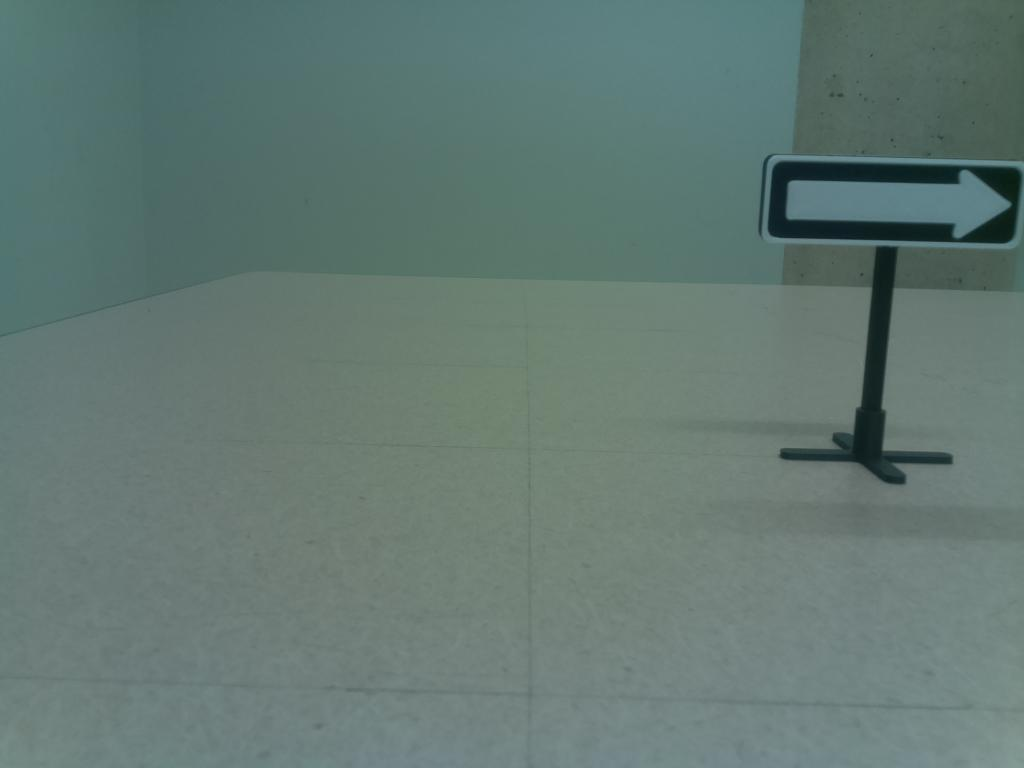sign_oneway_right: (756, 148, 1024, 256)
